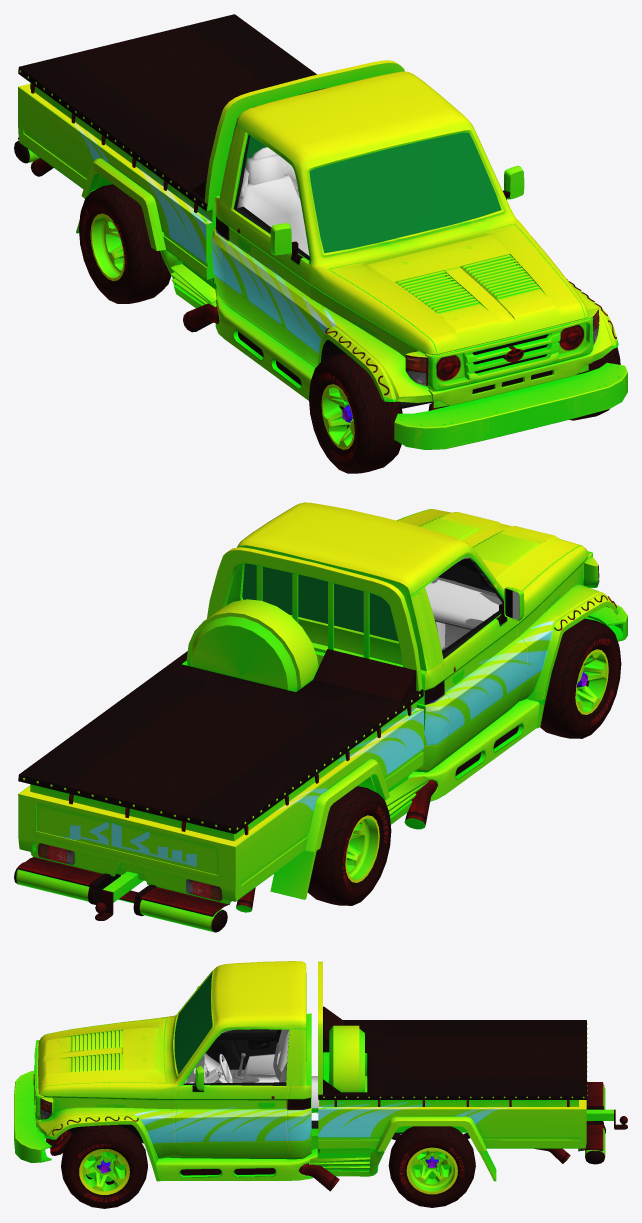
File: AIBushanabCandy.fbx
3 views of the same model, one above another, from view 1: azimuth 30°, elevation 25°; view 2: azimuth 150°, elevation 25°; view 3: azimuth 270°, elevation 25° (orthographic). The views are drawn at different scales.
Visible parts, largest first — view 1: Bushanab_pickup_body, windscreen, r_front_Bushanab_tyre, r_rear_Bushanab_tyre, Interior_lo, lights_front; view 2: Bushanab_pickup_body, r_rear_Bushanab_tyre, r_front_Bushanab_tyre, windscreen, Interior_lo, lights_front, Bushanab_interior; view 3: Bushanab_pickup_body, l_front_Bushanab_tyre, l_rear_Bushanab_tyre, windscreen, Interior_lo, Bushanab_interior, Bushanab_seats.
Part boxes in pixels (x1,y1,x2,y2): Bushanab_pickup_body: (14, 14, 627, 449); windscreen: (245, 132, 501, 253); r_front_Bushanab_tyre: (309, 353, 402, 473); r_rear_Bushanab_tyre: (79, 184, 171, 303); Interior_lo: (238, 154, 308, 252); lights_front: (406, 310, 599, 385); Bushanab_pickup_body: (14, 502, 627, 932); r_rear_Bushanab_tyre: (307, 786, 391, 905); r_front_Bushanab_tyre: (540, 618, 621, 738); windscreen: (242, 558, 494, 641); Interior_lo: (425, 557, 498, 648); lights_front: (38, 565, 599, 900); Bushanab_interior: (431, 579, 502, 650); Bushanab_pickup_body: (14, 961, 627, 1191); l_front_Bushanab_tyre: (61, 1125, 147, 1208); l_rear_Bushanab_tyre: (388, 1126, 475, 1207); windscreen: (174, 972, 212, 1074); Interior_lo: (185, 1029, 318, 1108); Bushanab_interior: (184, 1053, 275, 1083); Bushanab_seats: (244, 1050, 285, 1074).
Size of the model in its own units: 1.98 by 1.83 by 5.65.
